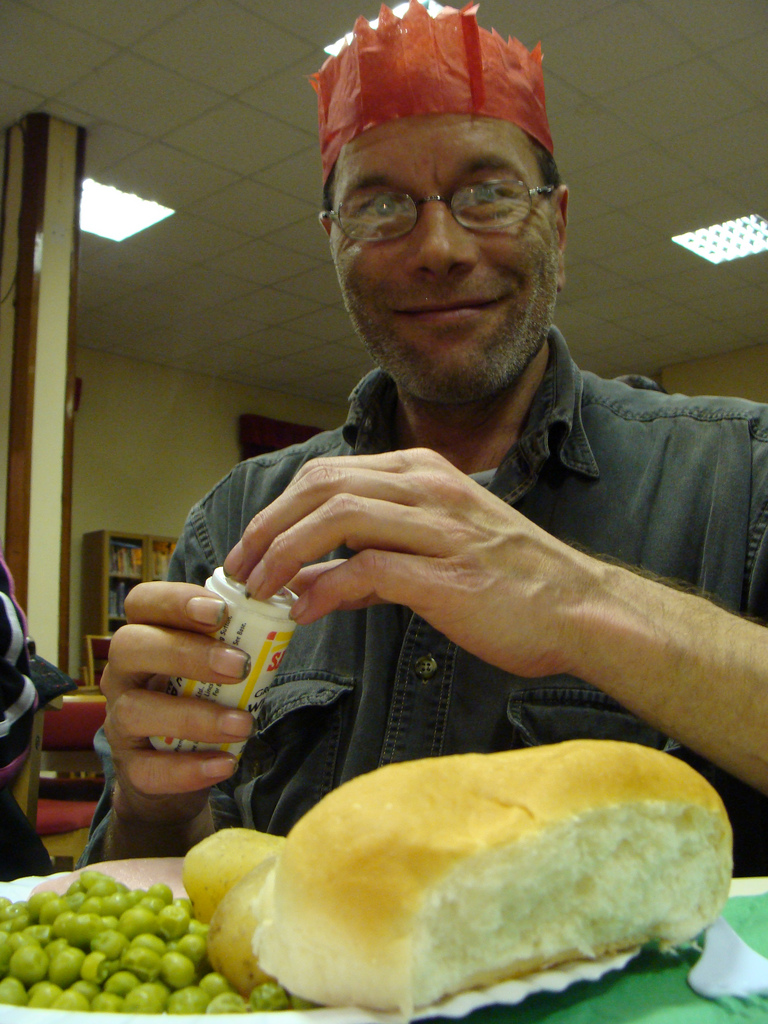boiled peas: (1, 877, 283, 1024)
boiled potatoes: (189, 831, 290, 990)
